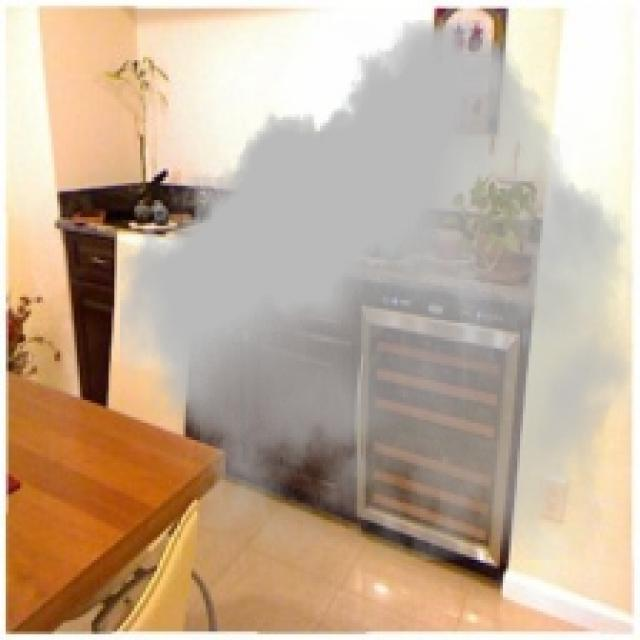Smoke: (120, 20, 634, 560)
